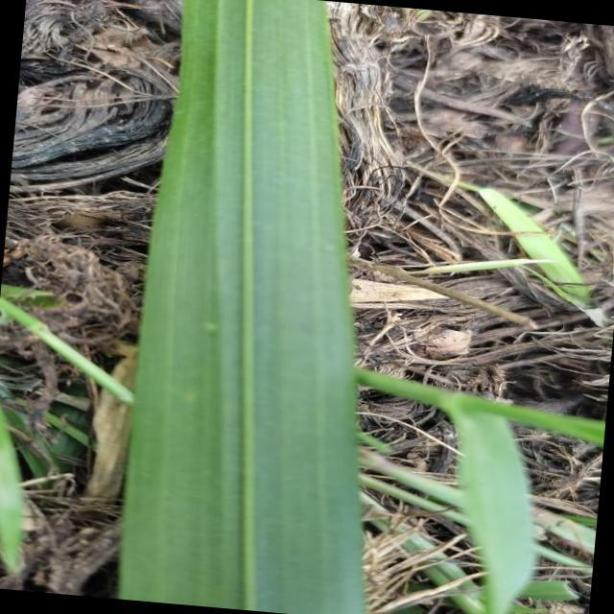Healthy: (118, 3, 360, 614)
